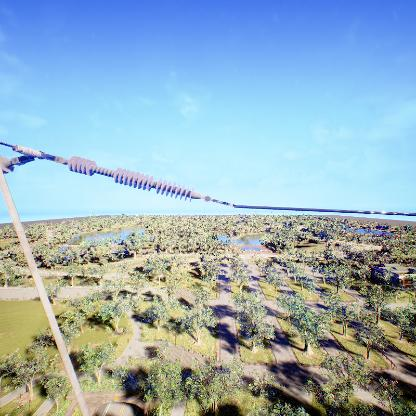insulator: (66, 154, 198, 203)
